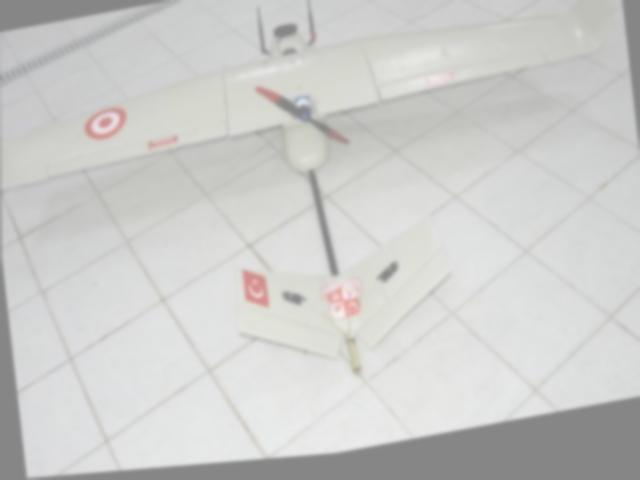iha: (0, 0, 640, 439)
